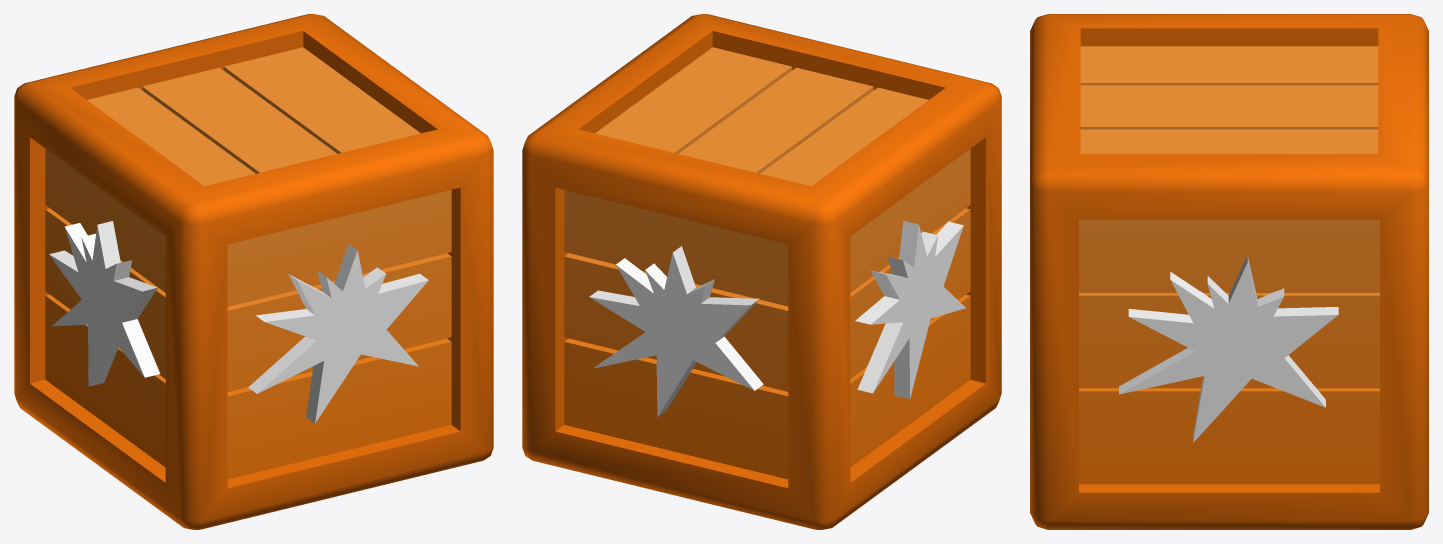
Rendered from Prop_Crate_07.fbx.
The picture shows the model from 3 angles, left to right: view 1: azimuth 30°, elevation 25°; view 2: azimuth 150°, elevation 25°; view 3: azimuth 270°, elevation 25°; orthographic projection. The views are drawn at different scales.
Visible parts, largest first — view 1: Prop_Crate_07; view 2: Prop_Crate_07; view 3: Prop_Crate_07.
Part boxes in pixels (x1,y1,x2,y2): Prop_Crate_07: (14, 14, 493, 529); Prop_Crate_07: (522, 14, 1001, 529); Prop_Crate_07: (1030, 14, 1428, 529).
Size of the model in its own units: 120 by 119 by 119.
